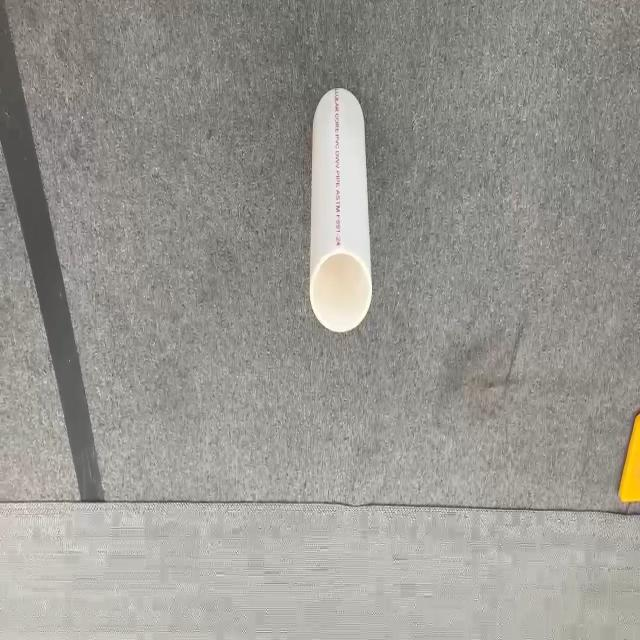coral: (308, 85, 373, 332)
